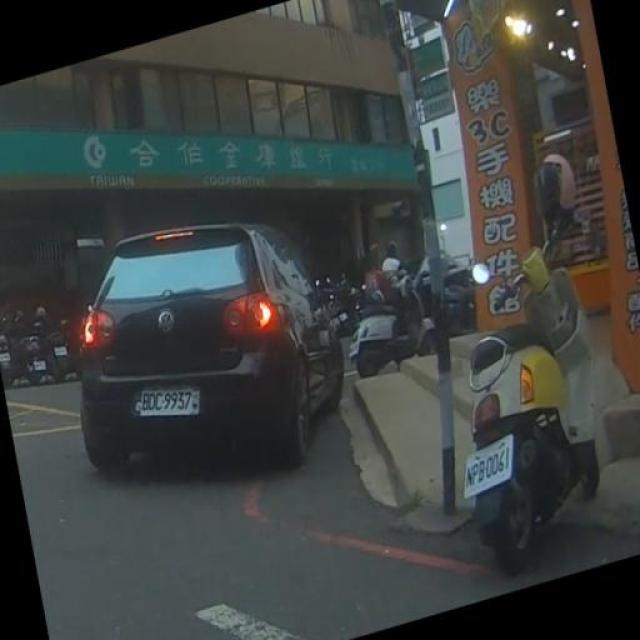illegalparking: (66, 219, 332, 500)
